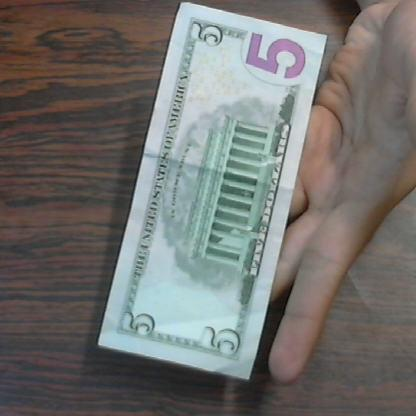five-back: (101, 0, 327, 382)
